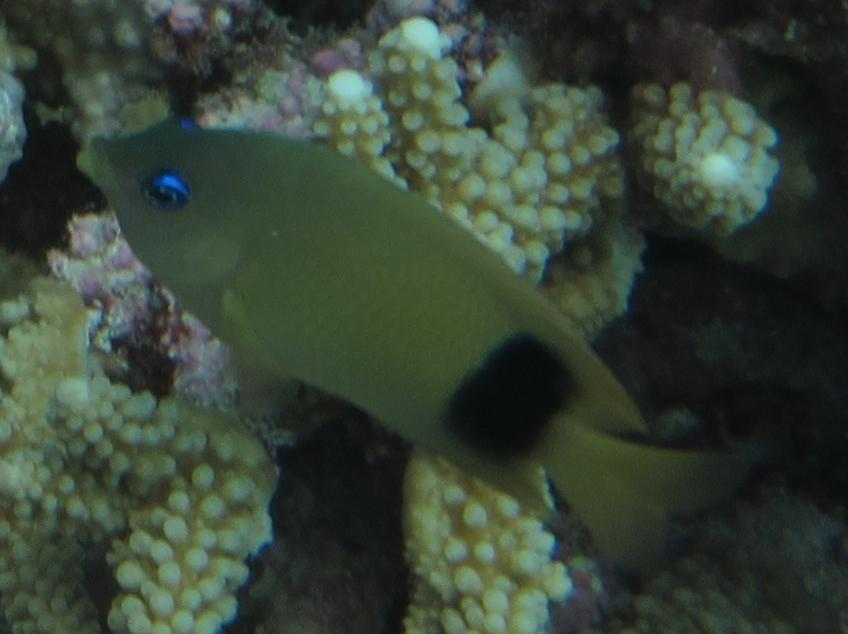Fish: (69, 60, 760, 600)
